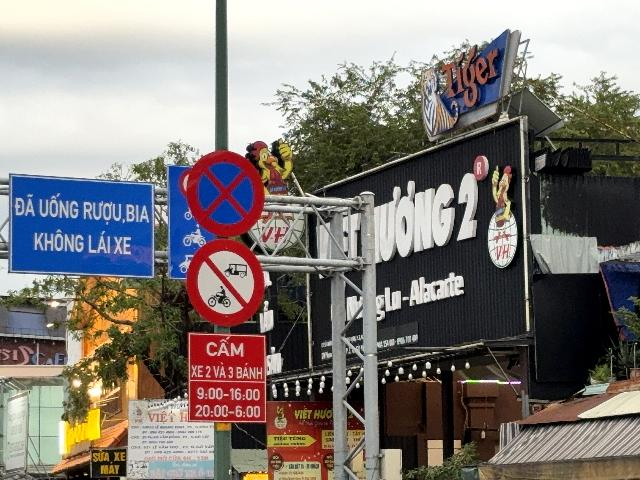cam-dung-va-do-xe: (186, 149, 265, 238)
cam-xe-2-banh-3-banh: (185, 238, 265, 326)
